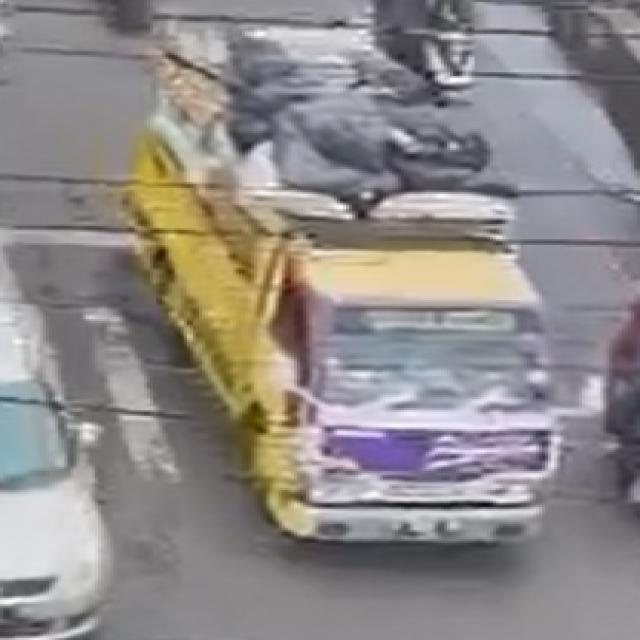truck: (117, 18, 613, 564)
